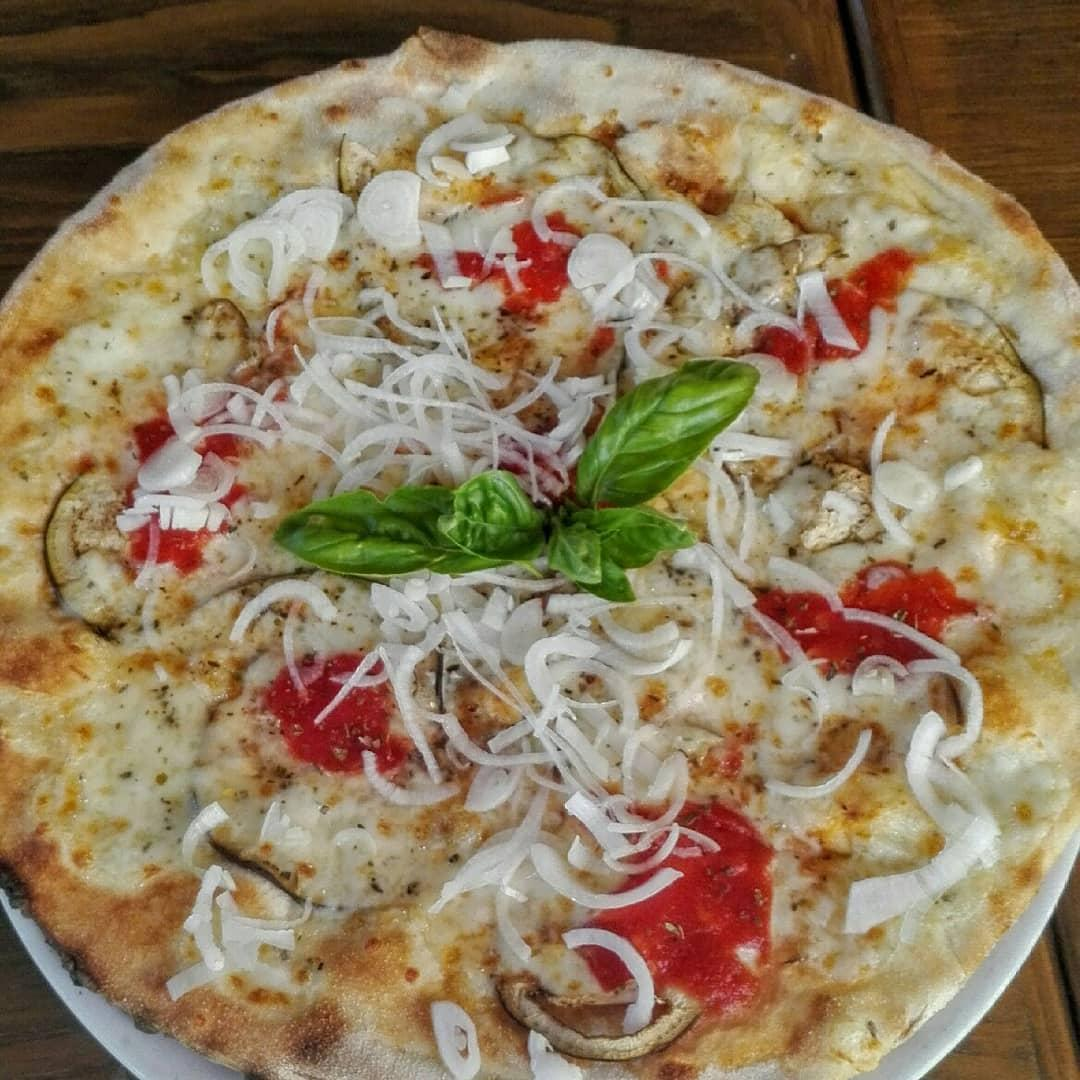Basil: (583, 361, 753, 504), (271, 481, 498, 576), (555, 493, 673, 590), (441, 467, 540, 553)
Onion: (327, 335, 505, 472), (905, 661, 994, 909), (543, 605, 681, 749), (157, 377, 350, 457), (381, 573, 568, 650), (485, 741, 673, 806), (697, 427, 761, 612), (225, 185, 340, 285), (181, 887, 292, 984), (871, 417, 942, 546), (353, 165, 433, 250), (581, 243, 664, 317)
Pizza: (0, 47, 1080, 1080)
Tomatoes: (601, 829, 773, 1005), (765, 575, 952, 673), (779, 245, 905, 370), (259, 665, 404, 766), (139, 417, 228, 560), (465, 219, 576, 304)
